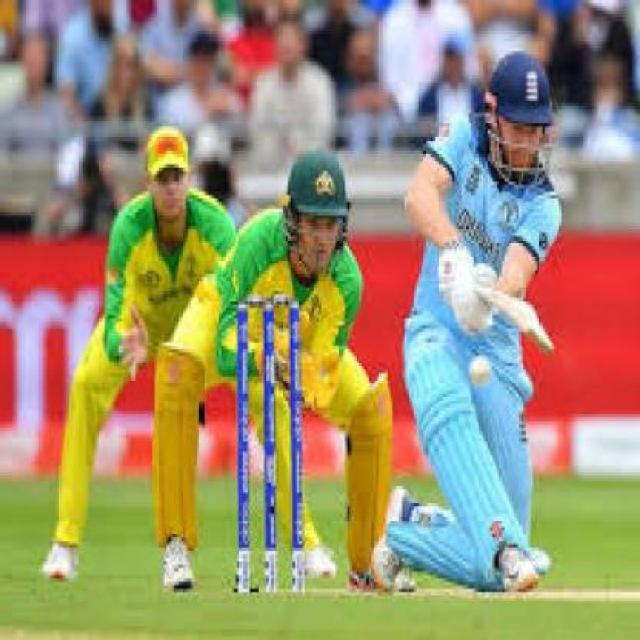ball: (436, 347, 512, 402)
